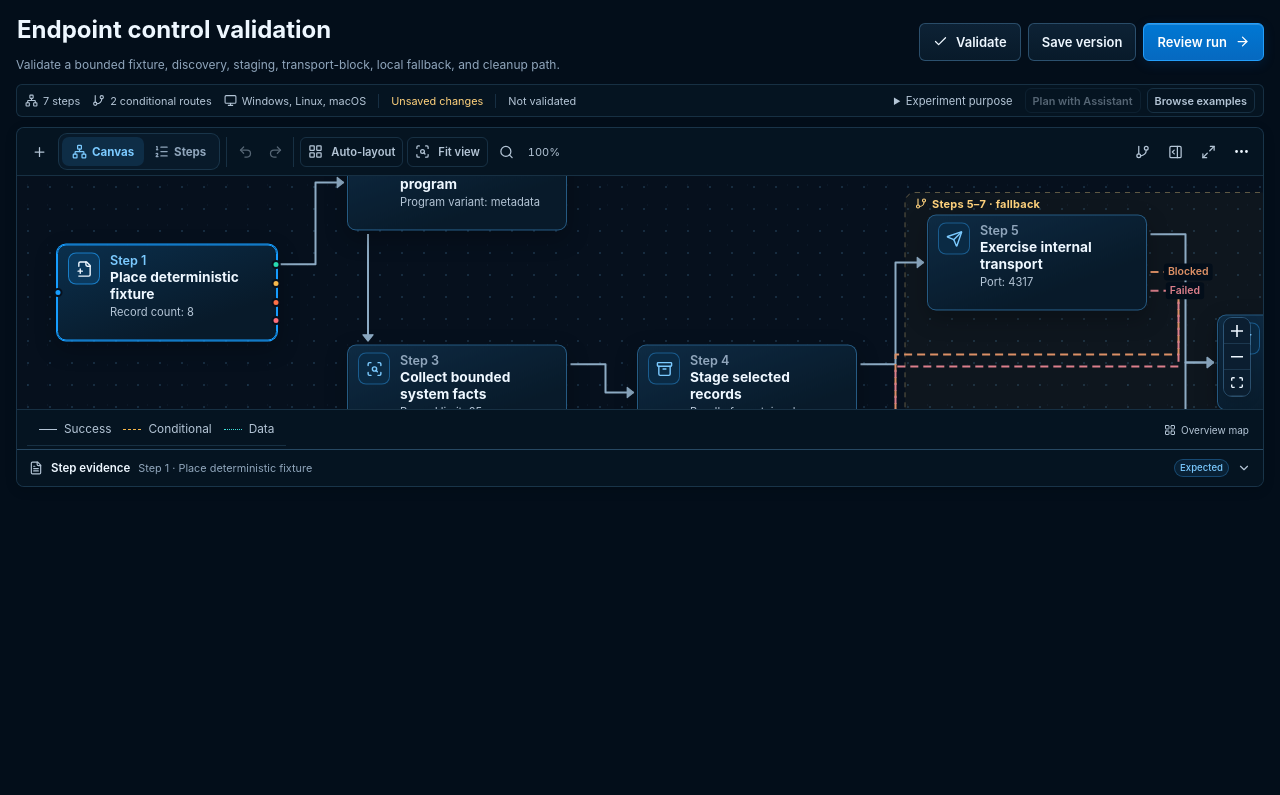
Test: Builder selection and navigation › preserves a hidden selected branch during copy
Click the button "Steps" at (180, 152), box [144, 137, 216, 166]
(page scrolled)
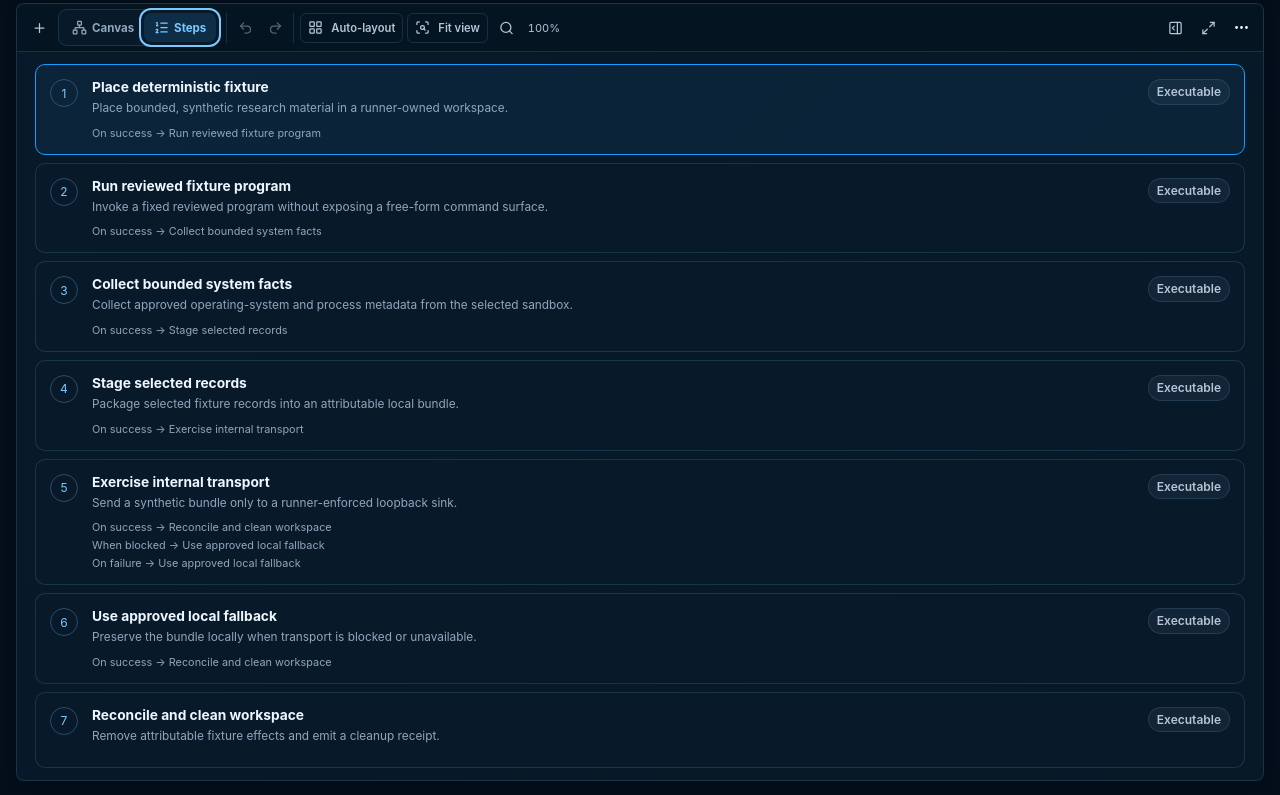
Click the button that starts with "Use approved local fallback" at (184, 616), box [35, 593, 1245, 684]
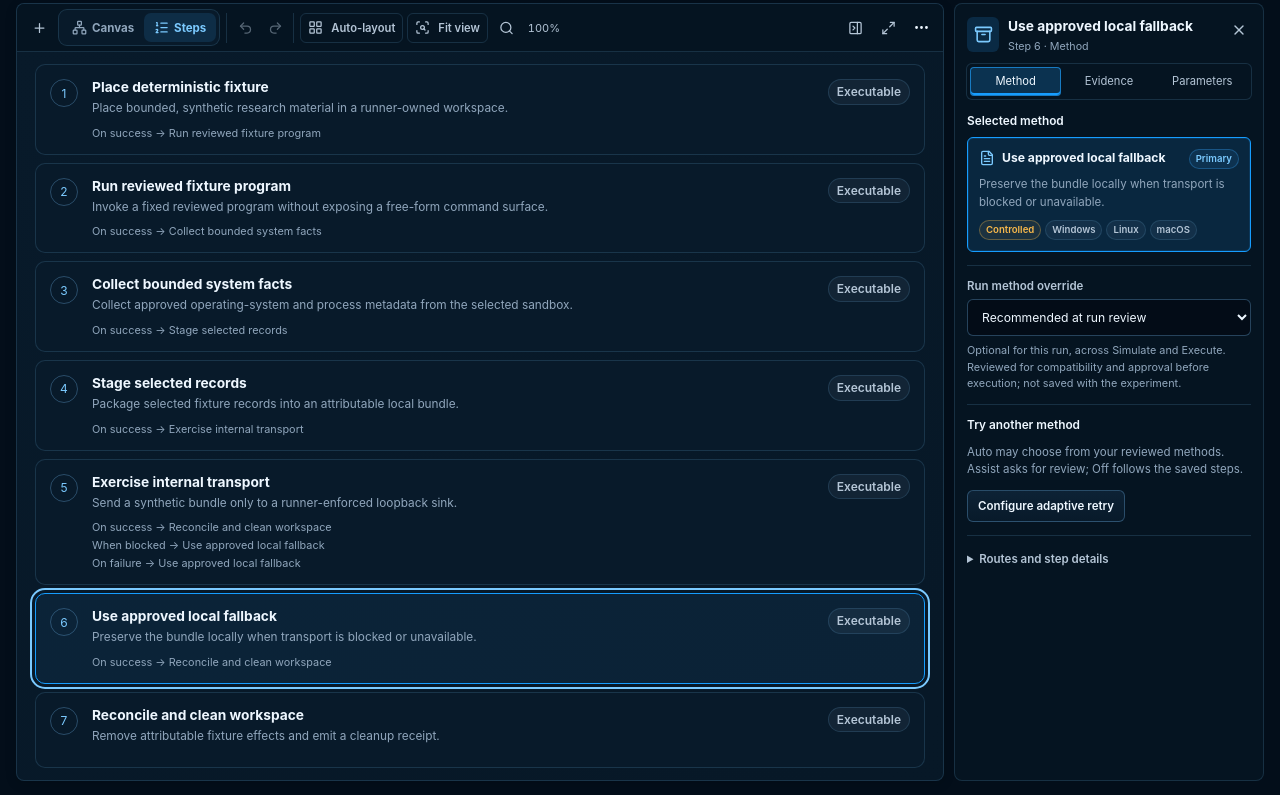
Click the heading named "View options" at (921, 28), box [906, 13, 936, 43]
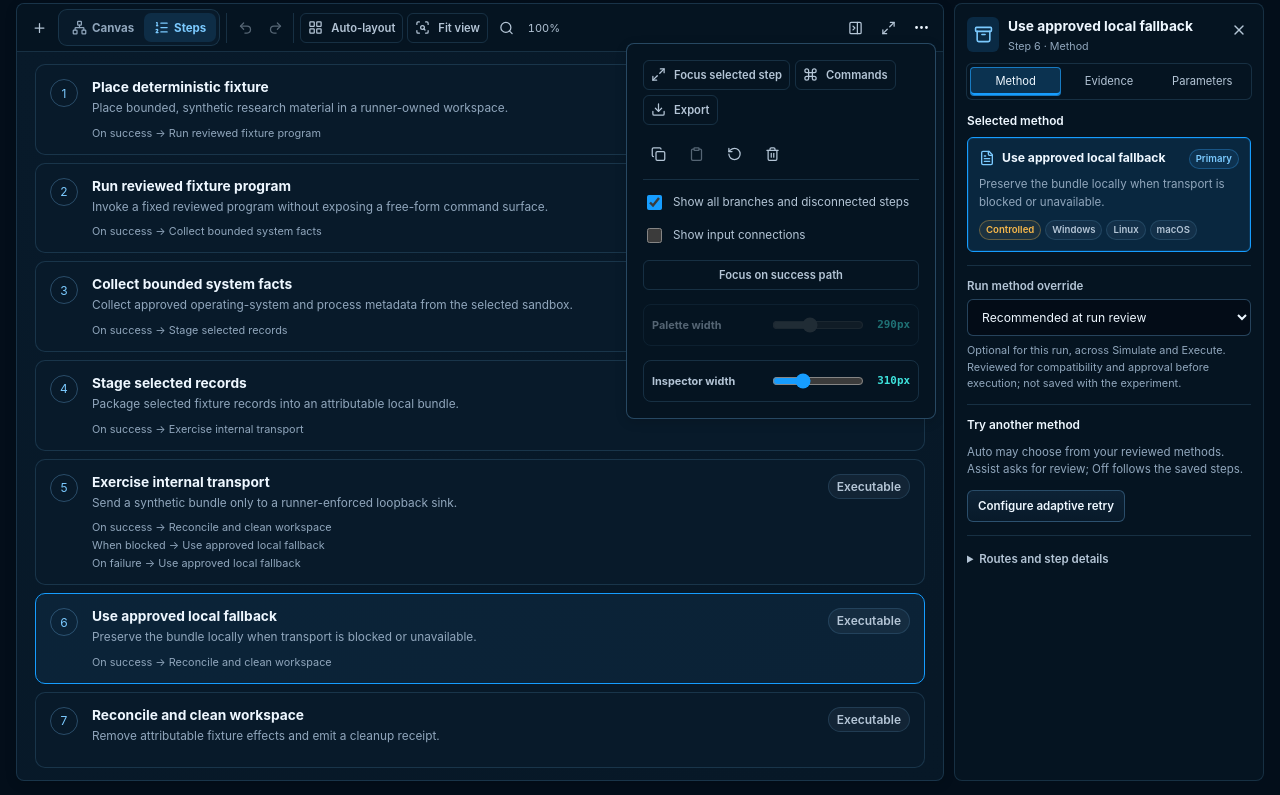
expect the element named "Selection tools" is shown: met, box [643, 139, 919, 180]
Click the button "Focus on success path" at (781, 275), box [643, 260, 919, 290]
(page scrolled)
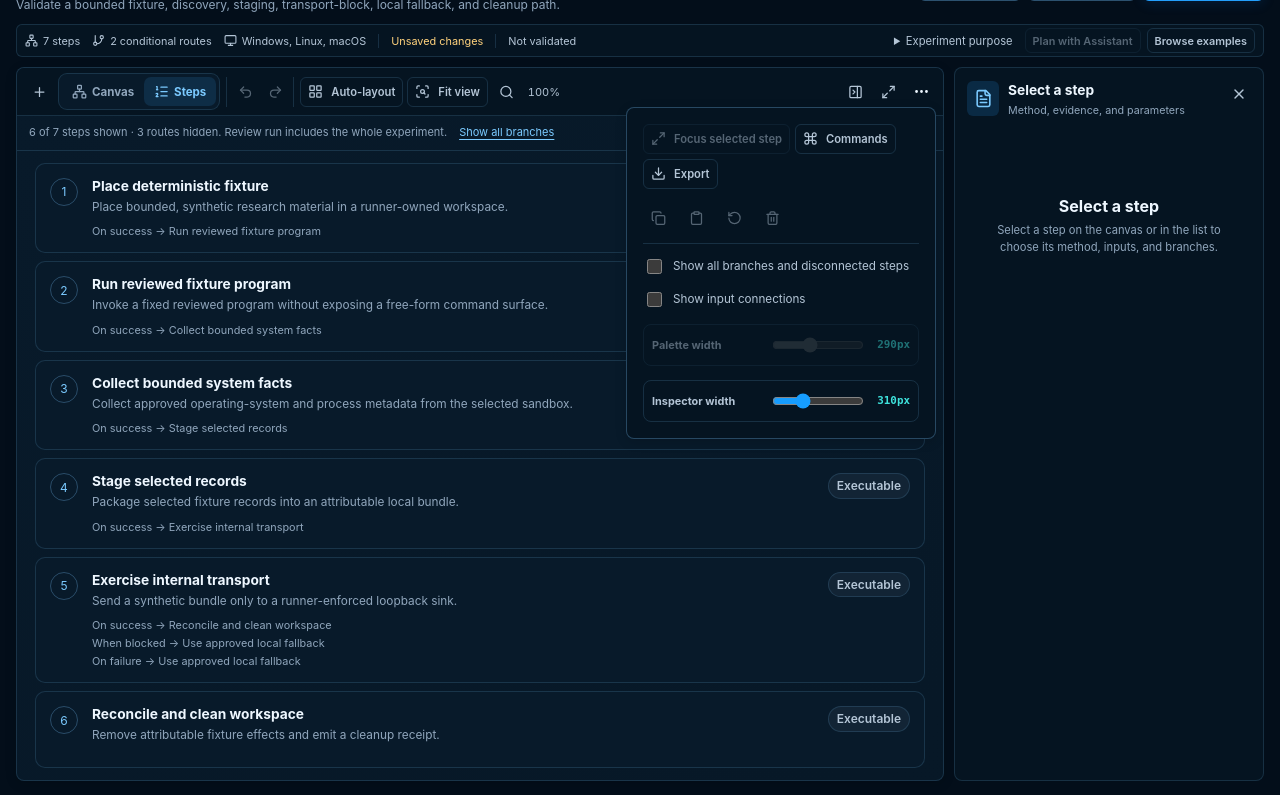
Click the heading named "View options" at (921, 92), box [906, 77, 936, 107]
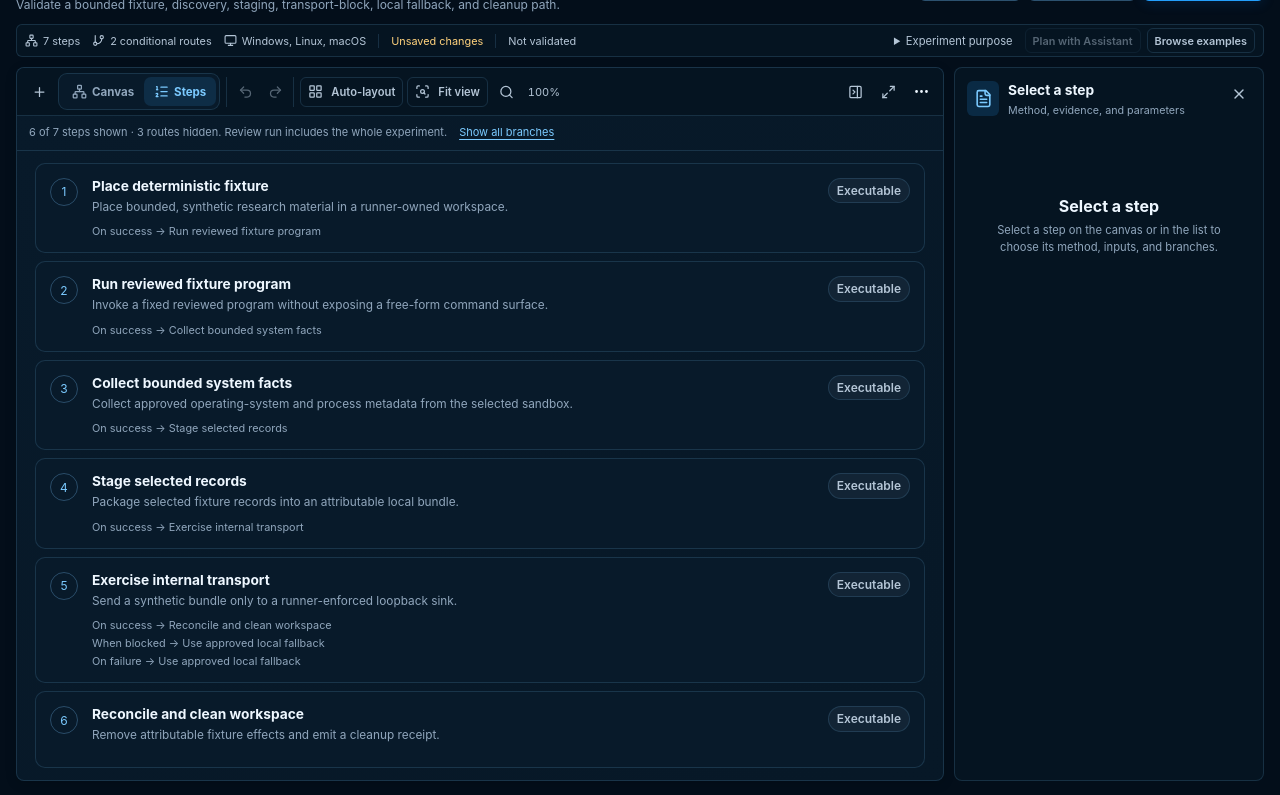
Type keys "{Control>}c{/Control}"
Type keys "{Control>}v{/Control}"
Click the heading named "View options" at (921, 92), box [906, 77, 936, 107]
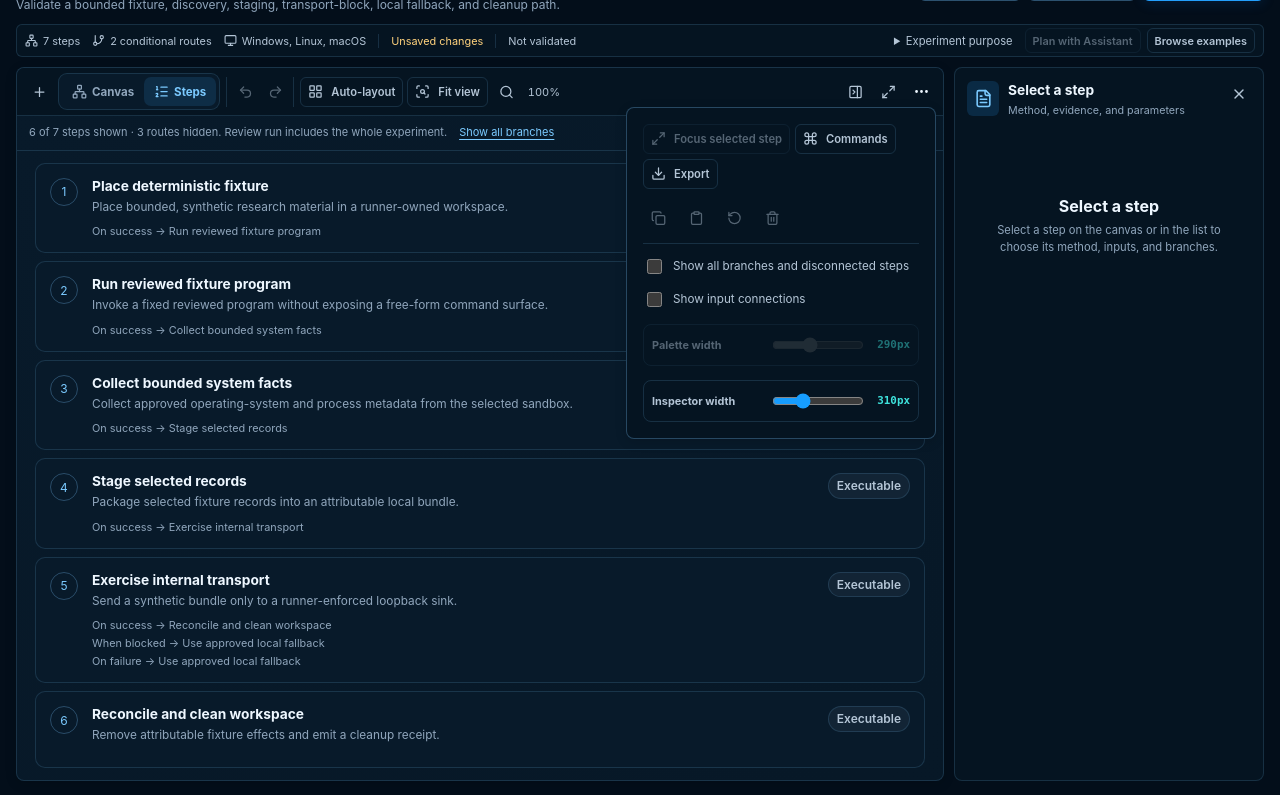
expect the element named "Selection tools" is shown: met, box [643, 203, 919, 244]
expect the button named "Delete selected node" is disabled: met, box [757, 203, 787, 233]
expect the button named "Copy selected node" is disabled: met, box [643, 203, 673, 233]
